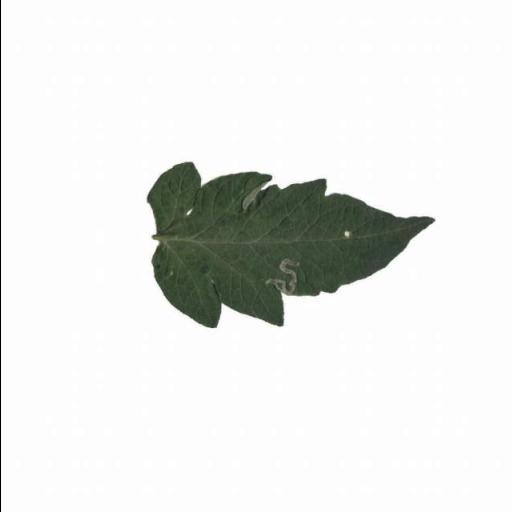Leaf Miner: (147, 163, 439, 329)
